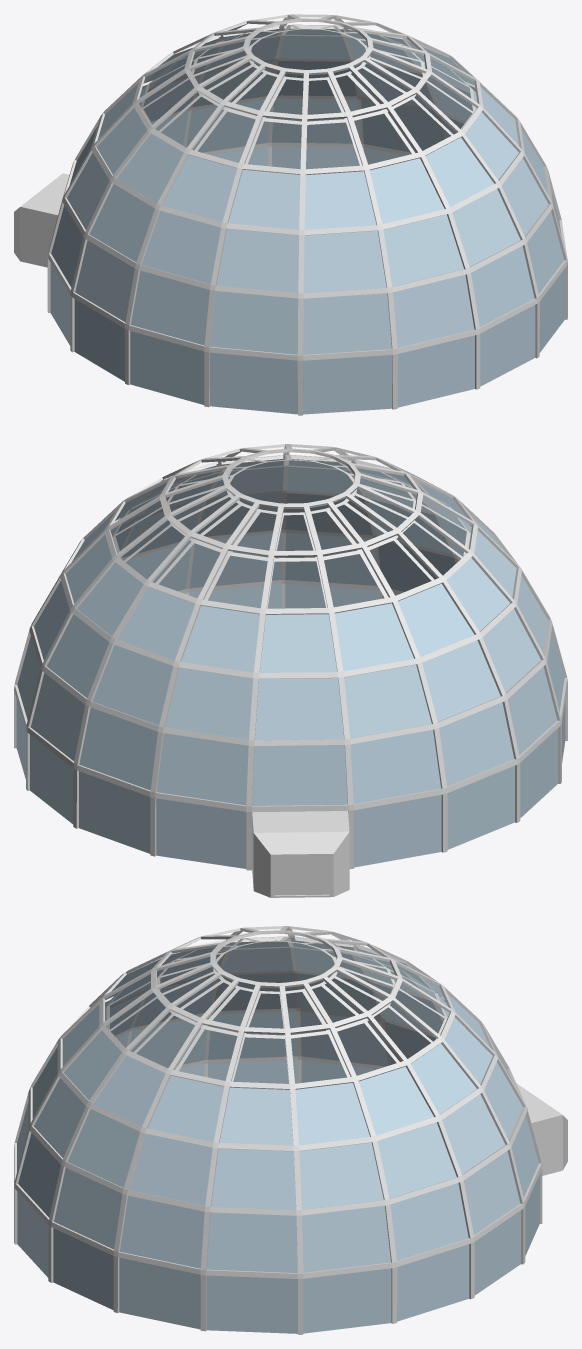
The model's file is RickDome.fbx.
3 renders of one model, top to bottom at view 1: azimuth 30°, elevation 25°; view 2: azimuth 150°, elevation 25°; view 3: azimuth 270°, elevation 25°, orthographic. The views are drawn at different scales.
Parts seen in each view (by area): view 1: Sphere.004; view 2: Sphere.004; view 3: Sphere.004.
Part boxes in pixels (left/top/right/bottom): Sphere.004: left=14, top=14, right=567, bottom=415; Sphere.004: left=14, top=444, right=567, bottom=897; Sphere.004: left=14, top=926, right=567, bottom=1334.
Size of the model in its own units: 199 by 110 by 208.
